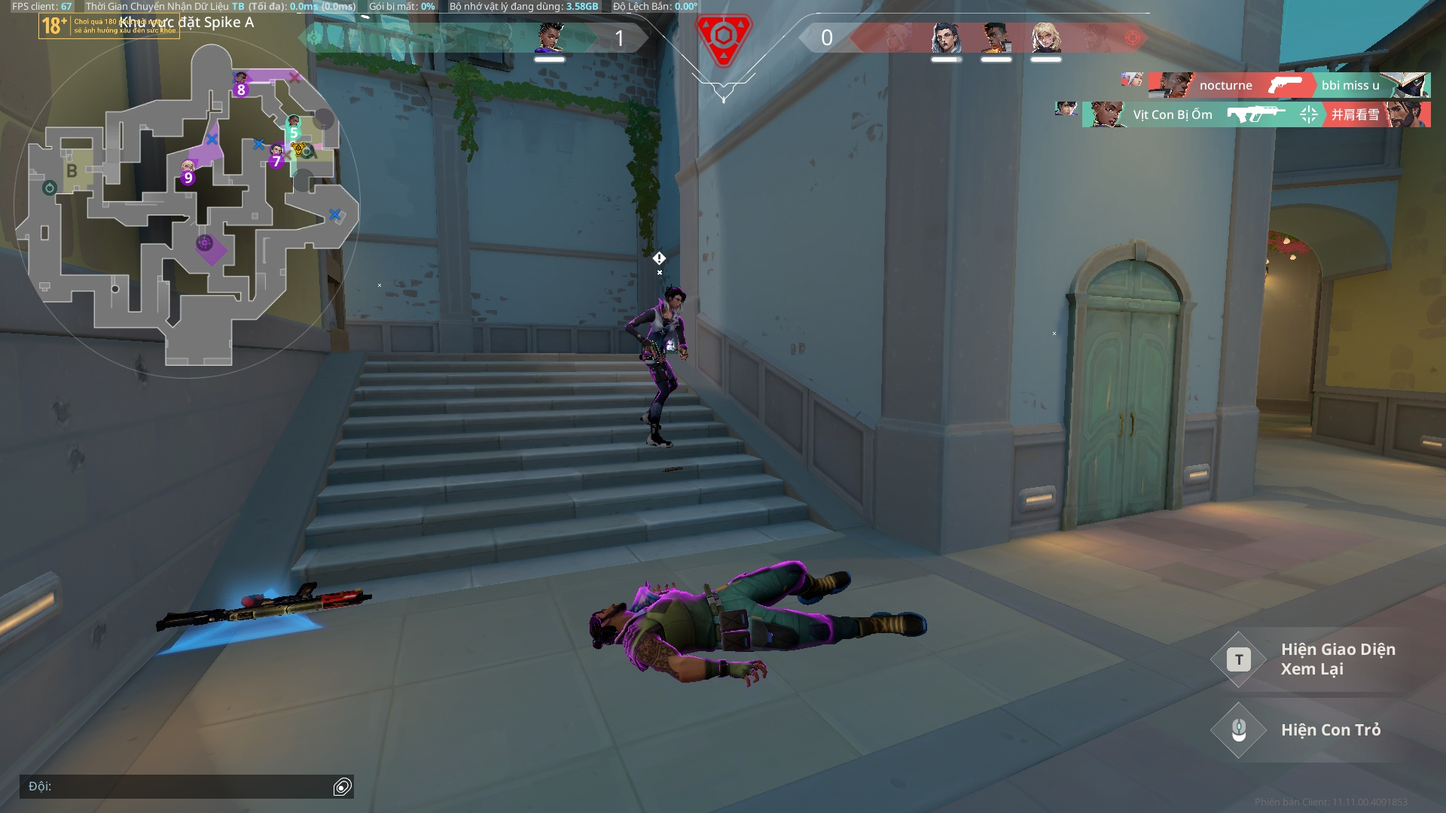body: (645, 302, 680, 351)
head: (664, 287, 685, 310)
